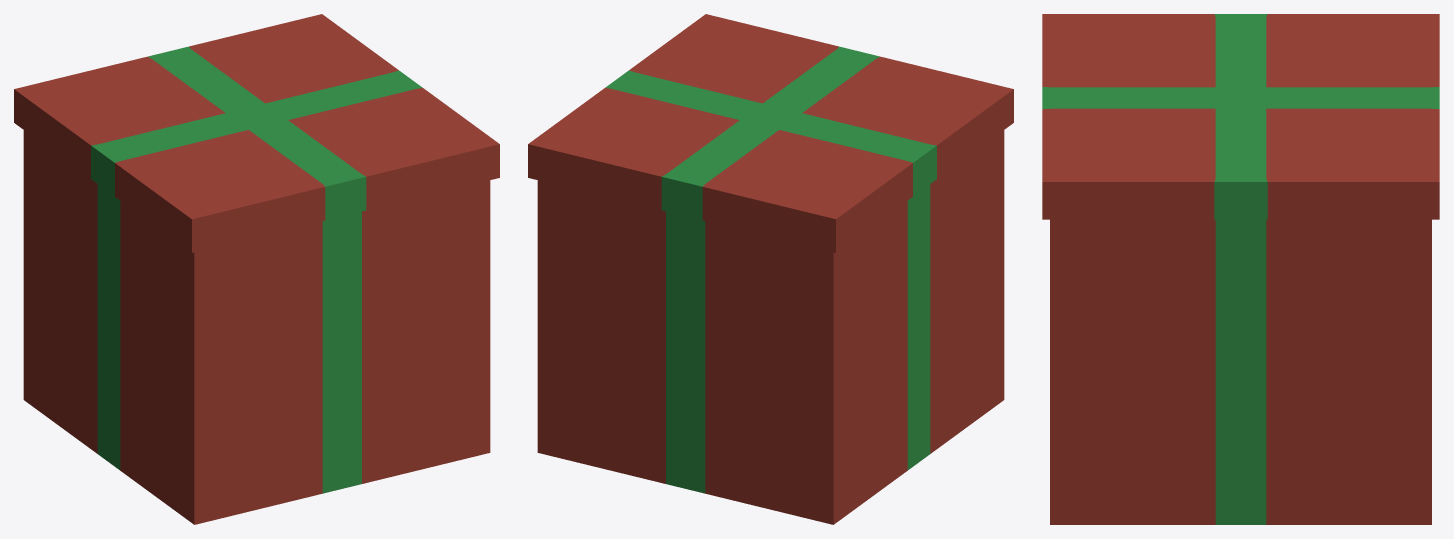
The model's file is GiftBox.fbx.
3 renders of one model, left to right at view 1: azimuth 30°, elevation 25°; view 2: azimuth 150°, elevation 25°; view 3: azimuth 270°, elevation 25°, orthographic. The views are drawn at different scales.
Visible parts, largest first — view 1: GiftBox.02; view 2: GiftBox.02; view 3: GiftBox.02.
Part boxes in pixels (x1,y1,x2,y2): GiftBox.02: (14, 14, 499, 524); GiftBox.02: (528, 14, 1013, 524); GiftBox.02: (1042, 14, 1439, 524).
Bounding box in the file's own units: 208 × 200 × 208.
